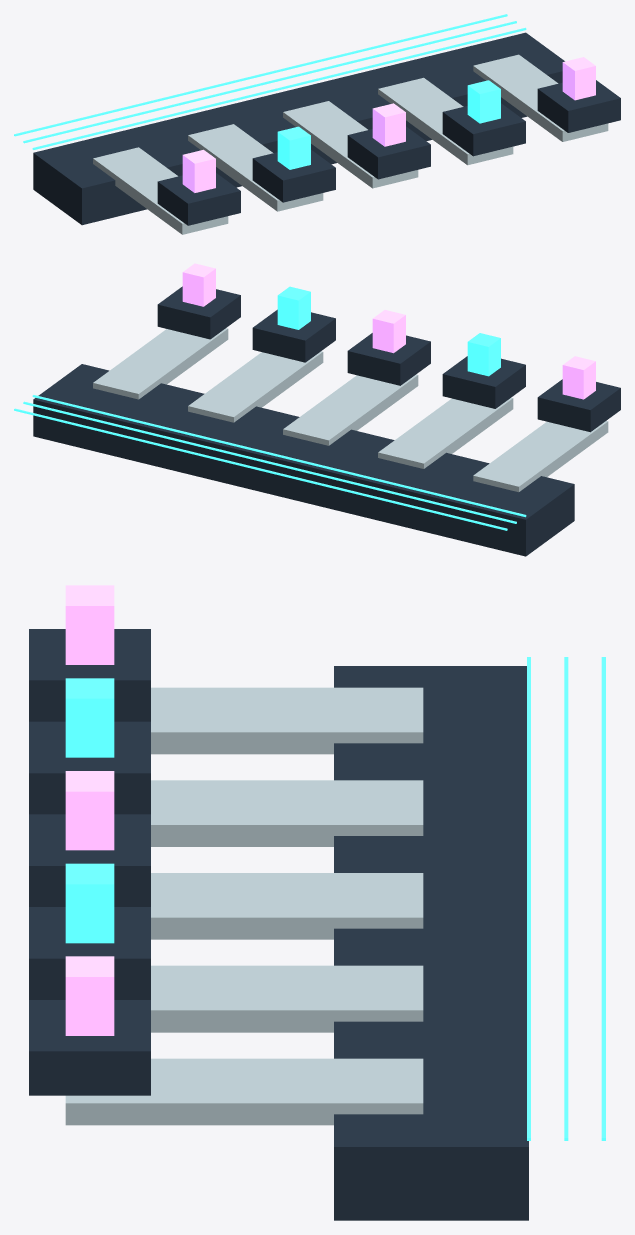
The model's file is harbor.glb.
3 views of the same model, one above another, from view 1: azimuth 30°, elevation 25°; view 2: azimuth 150°, elevation 25°; view 3: azimuth 270°, elevation 25° (orthographic). The views are drawn at different scales.
Parts seen in each view (by area): view 1: Harbor, Pier_0, Pier_1, Pier_3, Pier_4, Pier_2, Dock_2, Dock_3, Dock_0, Dock_1, Dock_4, Shoreline (+7 smaller); view 2: Harbor, Pier_0, Pier_3, Pier_4, Pier_1, Pier_2, Dock_2, Dock_3, Dock_0, Dock_4, Dock_1, Shoreline (+7 smaller); view 3: Harbor, Pier_4, Pier_3, Pier_0, Pier_1, Pier_2, Dock_4, Dock_1, Dock_0, Dock_2, Dock_3, Connector_3 (+7 smaller).
Boxes of the visible parts, x1=… form: Harbor: x1=33, y1=32, x2=564, y2=225; Pier_0: x1=93, y1=147, x2=228, y2=234; Pier_1: x1=188, y1=124, x2=323, y2=211; Pier_3: x1=378, y1=77, x2=513, y2=165; Pier_4: x1=473, y1=54, x2=608, y2=141; Pier_2: x1=283, y1=101, x2=418, y2=188; Dock_2: x1=347, y1=126, x2=430, y2=179; Dock_3: x1=442, y1=103, x2=525, y2=156; Dock_0: x1=157, y1=173, x2=240, y2=225; Dock_1: x1=252, y1=150, x2=335, y2=202; Dock_4: x1=537, y1=80, x2=620, y2=132; Shoreline: x1=32, y1=27, x2=526, y2=149; Harbor: x1=33, y1=364, x2=574, y2=556; Pier_0: x1=473, y1=421, x2=608, y2=492; Pier_3: x1=188, y1=351, x2=323, y2=422; Pier_4: x1=93, y1=328, x2=228, y2=399; Pier_1: x1=378, y1=397, x2=513, y2=468; Pier_2: x1=283, y1=374, x2=418, y2=445; Dock_2: x1=347, y1=333, x2=430, y2=385; Dock_3: x1=252, y1=309, x2=335, y2=362; Dock_0: x1=537, y1=379, x2=620, y2=432; Dock_4: x1=157, y1=286, x2=240, y2=339; Dock_1: x1=442, y1=356, x2=525, y2=408; Shoreline: x1=32, y1=395, x2=526, y2=517; Harbor: x1=334, y1=666, x2=528, y2=1220; Pier_4: x1=65, y1=1058, x2=423, y2=1125; Pier_3: x1=151, y1=965, x2=423, y2=1032; Pier_0: x1=151, y1=687, x2=423, y2=754; Pier_1: x1=151, y1=780, x2=423, y2=846; Pier_2: x1=151, y1=873, x2=423, y2=939; Dock_4: x1=29, y1=1000, x2=150, y2=1095; Dock_1: x1=29, y1=721, x2=150, y2=814; Dock_0: x1=29, y1=629, x2=150, y2=721; Dock_2: x1=29, y1=814, x2=150, y2=906; Dock_3: x1=29, y1=907, x2=150, y2=999; Connector_3: x1=65, y1=863, x2=114, y2=943.
Bounding box in the file's own units: 7 × 1.35 × 3.55.
